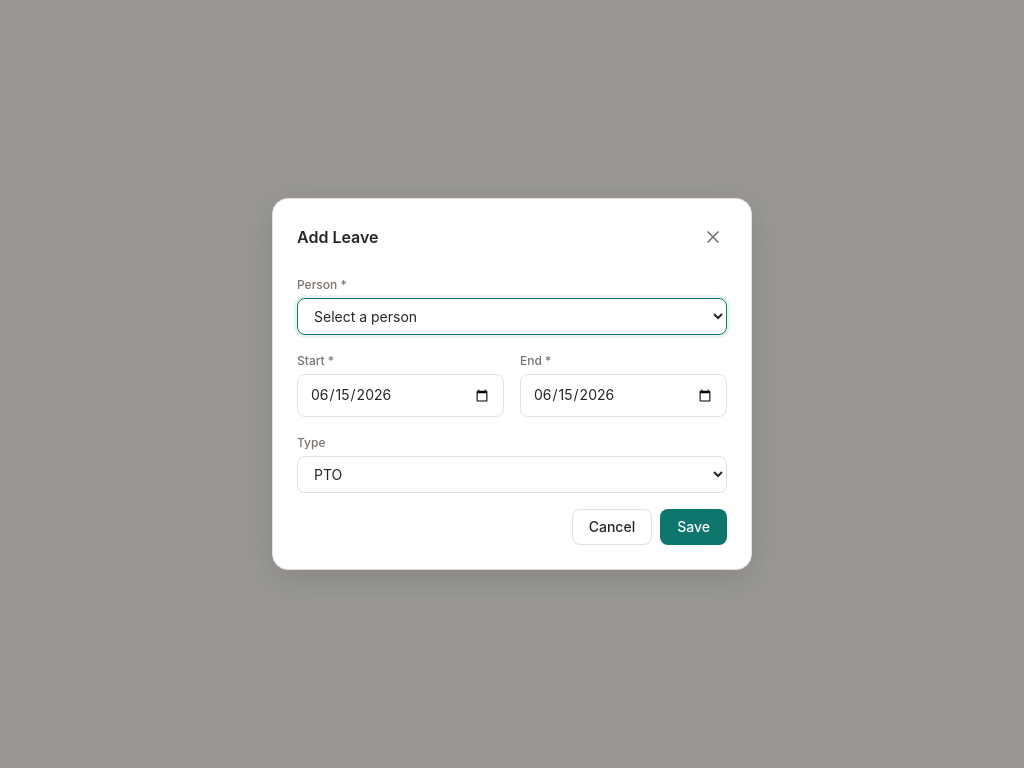
Scenario: LeaveForm › requires both dates
This screenshot has width=1024, height=768.
Select "Alex Chen" in the dropdown labelled "Person *" at [512, 317], box [297,298,727,335]
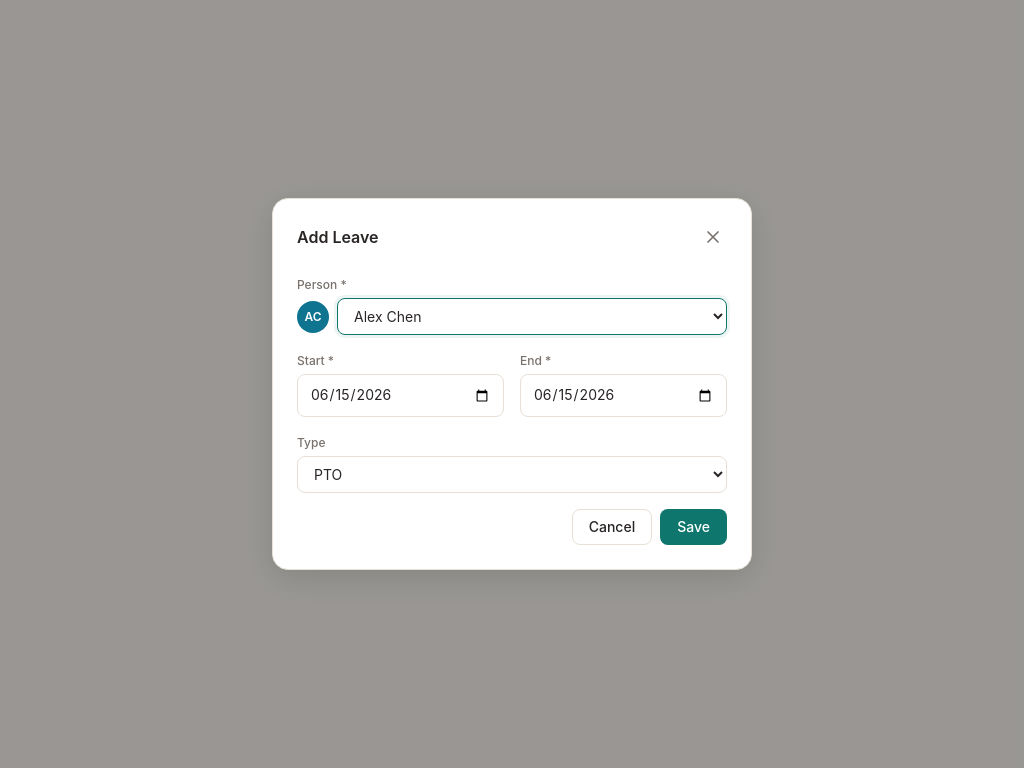
Clear the date field labelled "End *" at [624, 396], box [520,374,727,417]
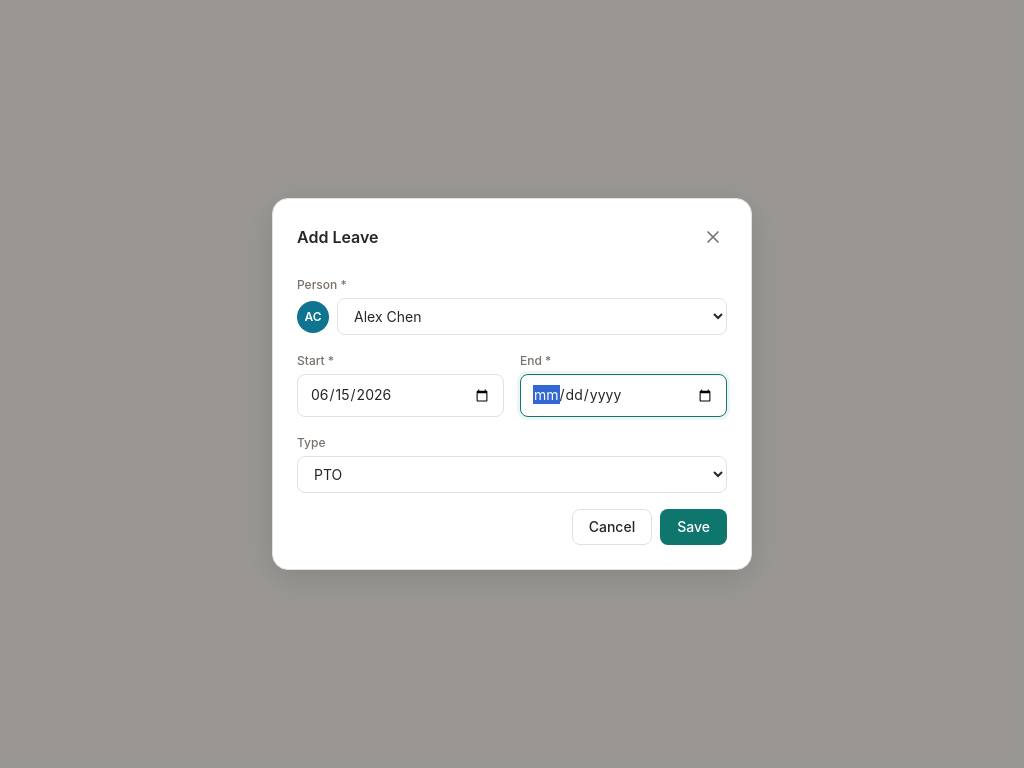
Click the button "Save".
click(694, 527)  # box [660,509,727,545]
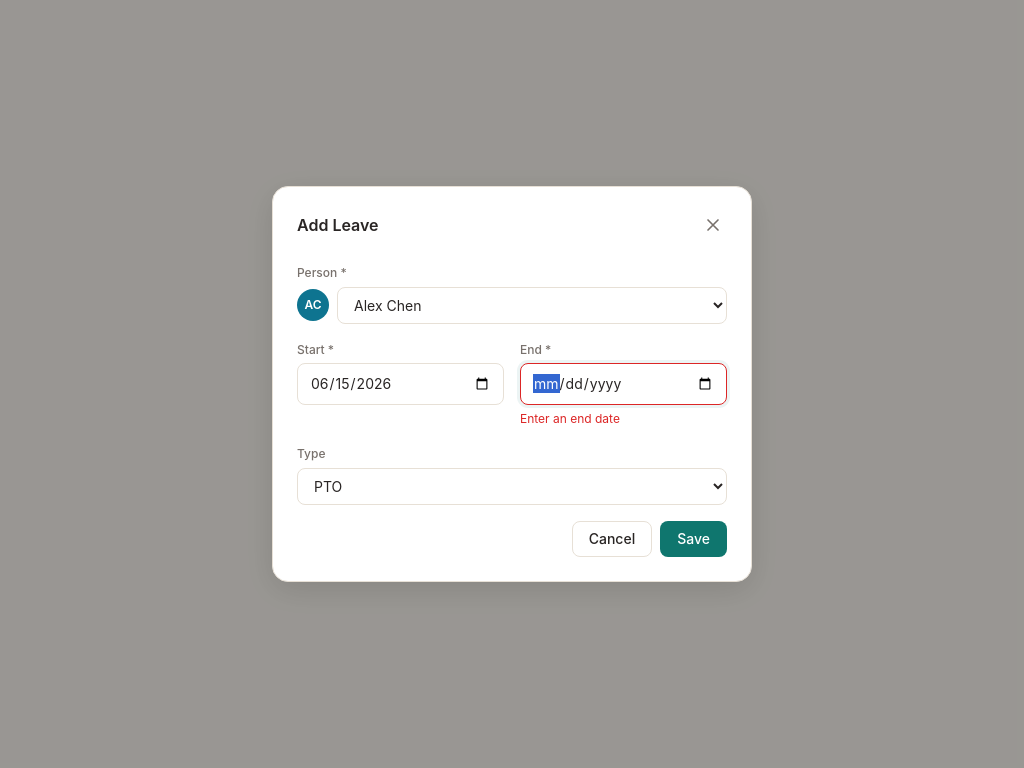
Check: the text "Enter an end date" is shown, box [520,411,620,426]
Clear the date field labelled "Start *" at [400, 384], box [297,363,504,405]
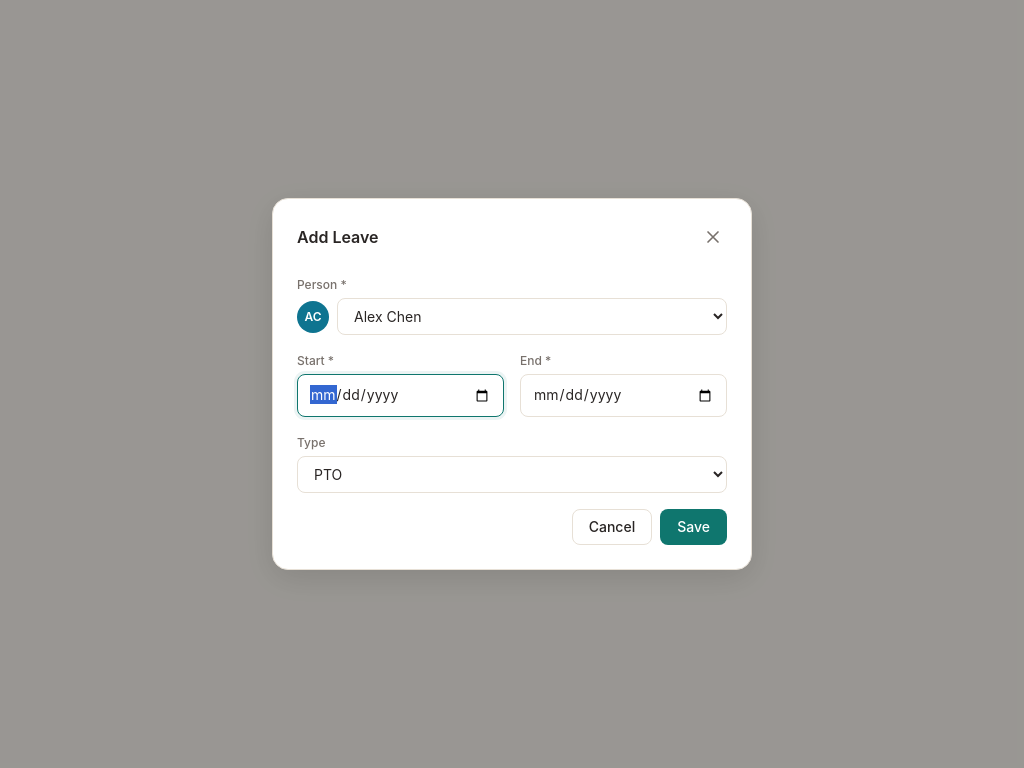
Click the button "Save".
click(694, 527)  # box [660,509,727,545]
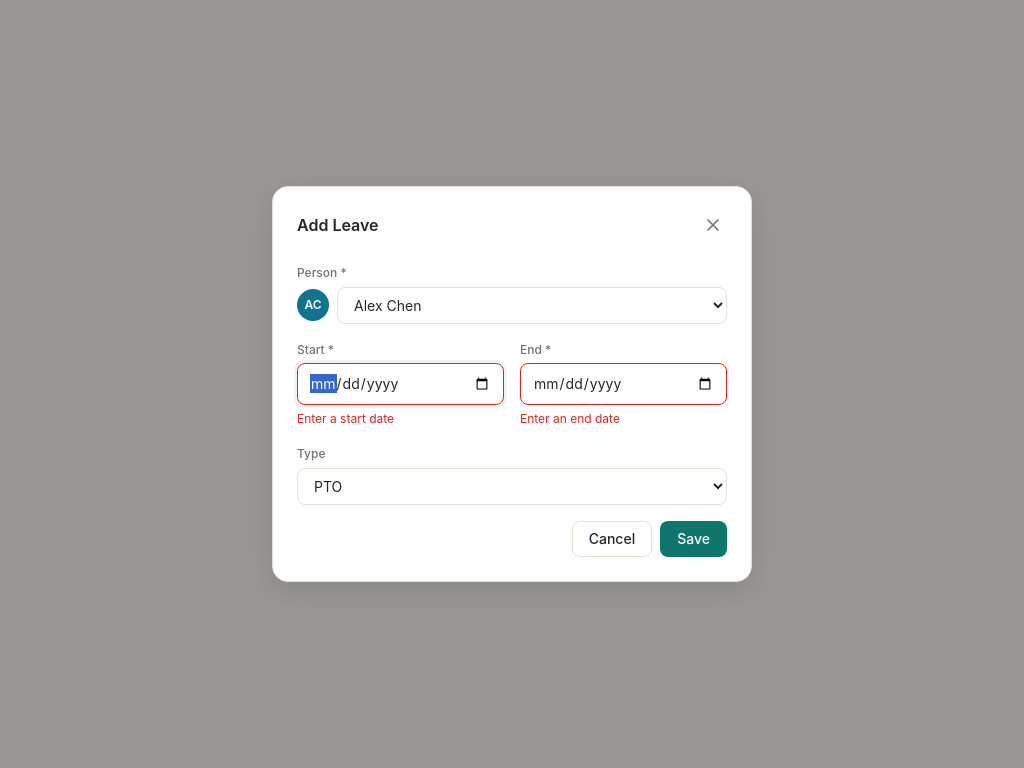
Check: the text "Enter a start date" is shown, box [297,411,394,426]
